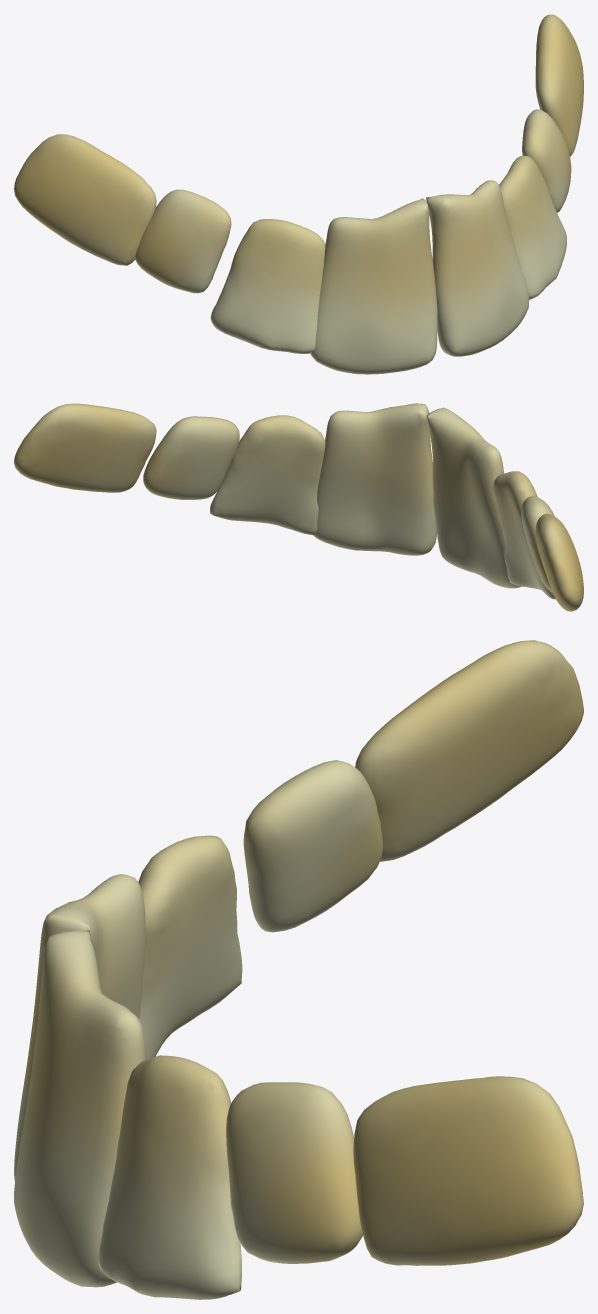
Rendered from 14406-50c7cf91-2cb1-4bac-926b-2c225c2c2243.glb.
3 views of the same model, one above another, from view 1: azimuth 30°, elevation 25°; view 2: azimuth 150°, elevation 25°; view 3: azimuth 270°, elevation 25° (orthographic). The views are drawn at different scales.
Parts seen in each view (by area): view 1: Object_25.Mesh; view 2: Object_25.Mesh; view 3: Object_25.Mesh.
Part boxes in pixels (left/top/right/bottom): Object_25.Mesh: left=14, top=14, right=583, bottom=374; Object_25.Mesh: left=14, top=403, right=583, bottom=611; Object_25.Mesh: left=14, top=640, right=583, bottom=1299.
Bounding box in the file's own units: 0.00315 × 0.00103 × 0.00149.
